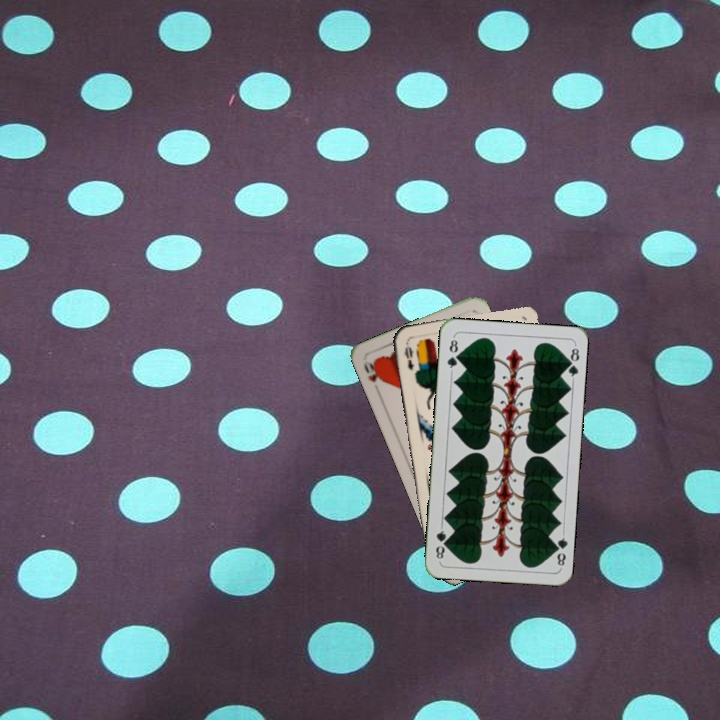EO: (400, 339, 416, 372)
G8: (549, 529, 570, 570), (443, 333, 461, 374)
HO: (359, 357, 385, 385)
